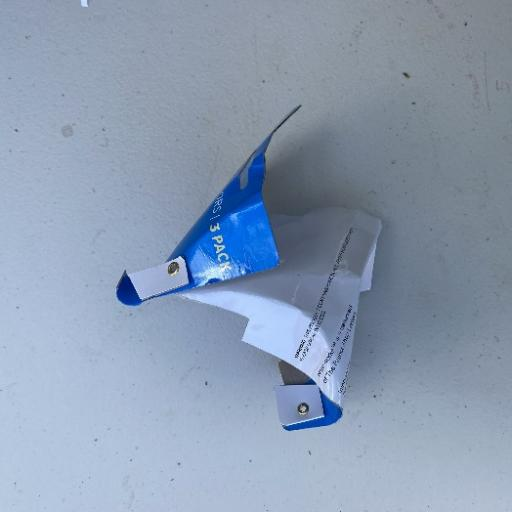Cardboard: (113, 102, 385, 431), (114, 102, 303, 308)
